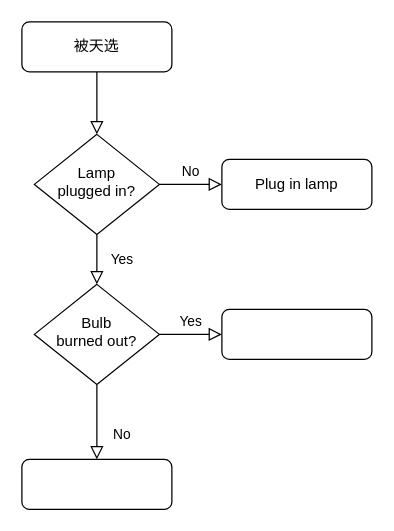
The diagram is 394 pixels wide and 531 high, and some of its shapes have lost their labels. Here are the shapes that lost their labels. From the top down, the centre of each, then its label:
the point at 296,333: Replace Bulb
the point at 96,483: Repair Lamp
